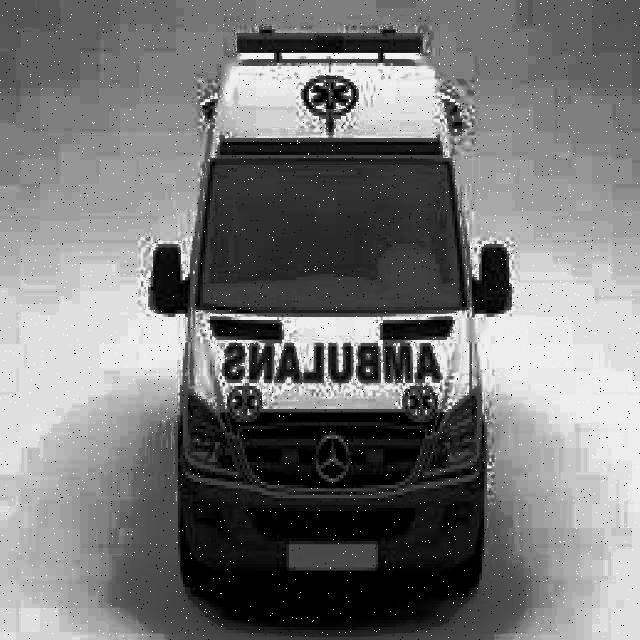LCV: (153, 27, 510, 585)
